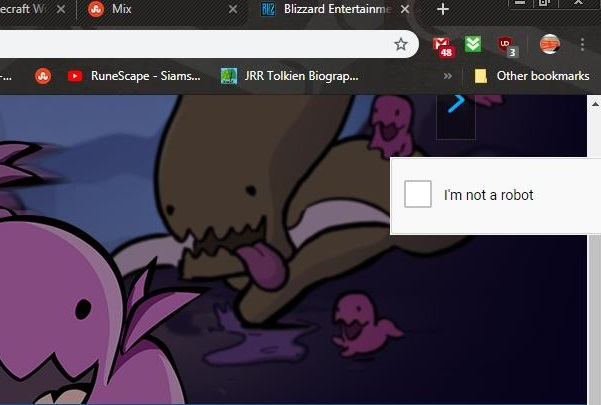captcha: (404, 180, 537, 208)
